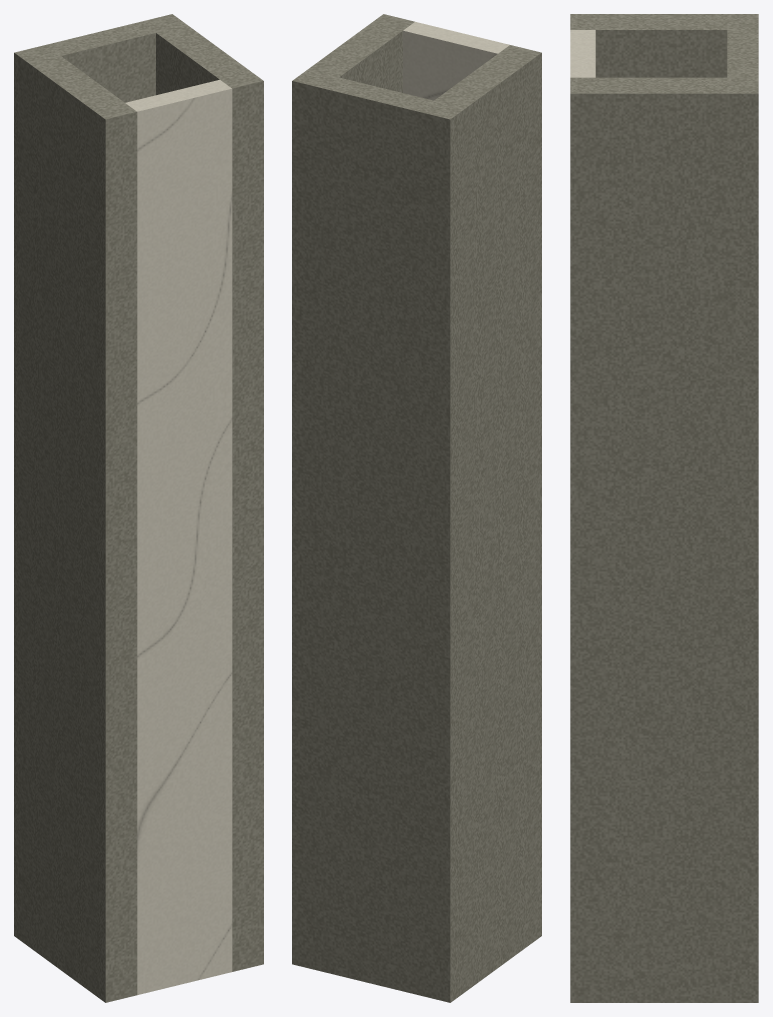
3 views of the same model, side by side, from view 1: azimuth 30°, elevation 25°; view 2: azimuth 150°, elevation 25°; view 3: azimuth 270°, elevation 25° (orthographic). The views are drawn at different scales.
Parts seen in each view (by area): view 1: Utility chase stone side, Removable marble inspection panel, Utility chase stone side.001, Utility chase rear; view 2: Utility chase stone side, Utility chase rear, Utility chase stone side.001, Removable marble inspection panel; view 3: Utility chase stone side.001, Utility chase stone side, Utility chase rear, Removable marble inspection panel.
Part boxes in pixels (x1=…): Utility chase stone side: x1=14, y1=45, x2=137, y2=1002; Removable marble inspection panel: x1=125, y1=79, x2=232, y2=994; Utility chase stone side.001: x1=141, y1=14, x2=263, y2=971; Utility chase rear: x1=46, y1=21, x2=155, y2=102; Utility chase stone side: x1=418, y1=45, x2=541, y2=1002; Utility chase rear: x1=323, y1=77, x2=433, y2=994; Utility chase stone side.001: x1=292, y1=14, x2=414, y2=971; Removable marble inspection panel: x1=403, y1=21, x2=509, y2=100; Utility chase stone side.001: x1=570, y1=77, x2=758, y2=1002; Utility chase stone side: x1=570, y1=14, x2=758, y2=77; Utility chase rear: x1=727, y1=30, x2=758, y2=77; Removable marble inspection panel: x1=570, y1=30, x2=595, y2=77.
Bounding box in the file's own units: 0.6 × 3.2 × 0.6.
Materials: 2 (2 with a texture image).
